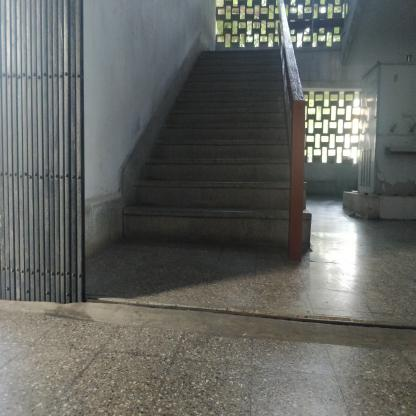stairs: (142, 125, 281, 257)
